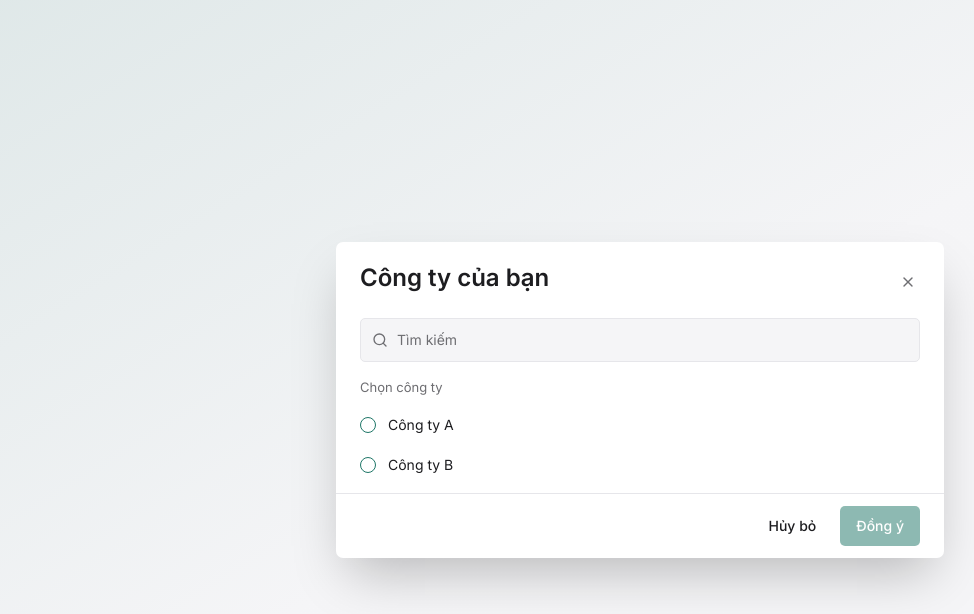
Test: TenantSelector › tìm kiếm lọc theo tên công ty
In the field with placeholder "Tìm kiếm": (640, 340) [360,318,920,362], type "ty B"
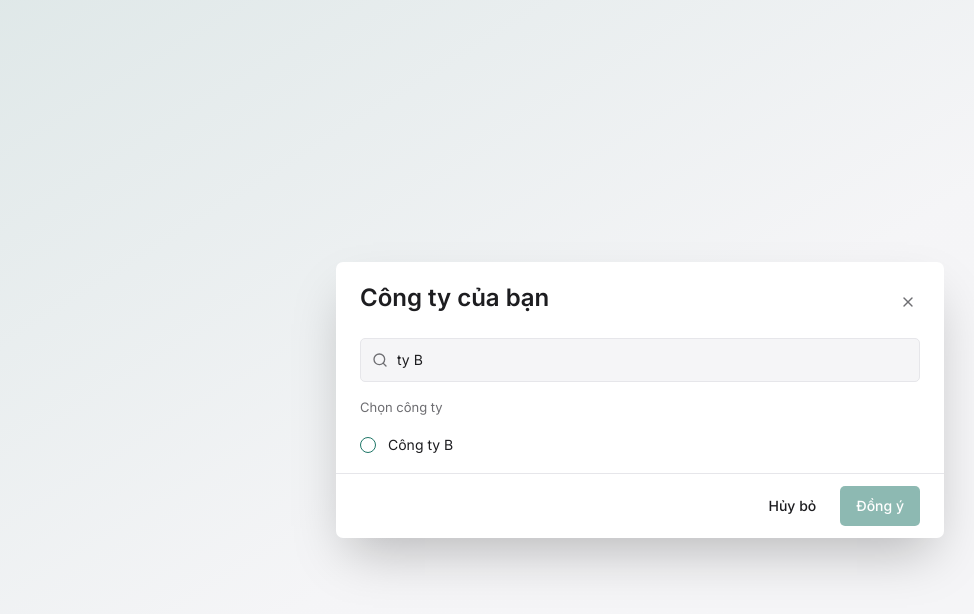
Check: the text "Công ty B" is shown, box [388,435,453,455]
Check: the text "Công ty A" is gone
